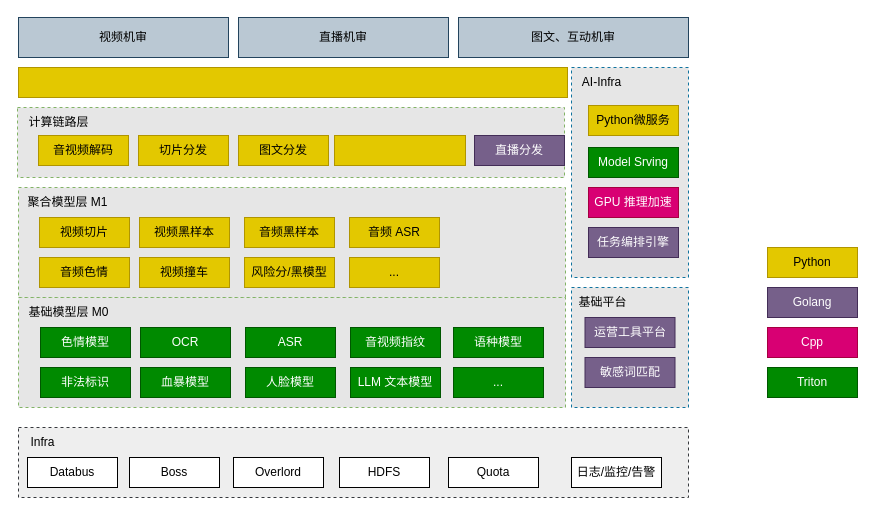
This 875x515 diagram has some shape labels left out. The centre of each missing label's shape, as x and y in pixels:
机审策略: the point at 293,82
视频计算调度: the point at 400,150
